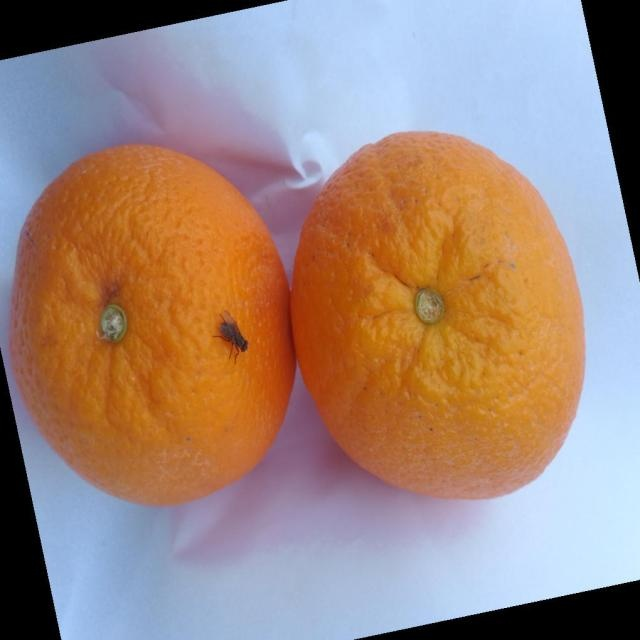agrume: (290, 128, 586, 500), (7, 141, 296, 507)
